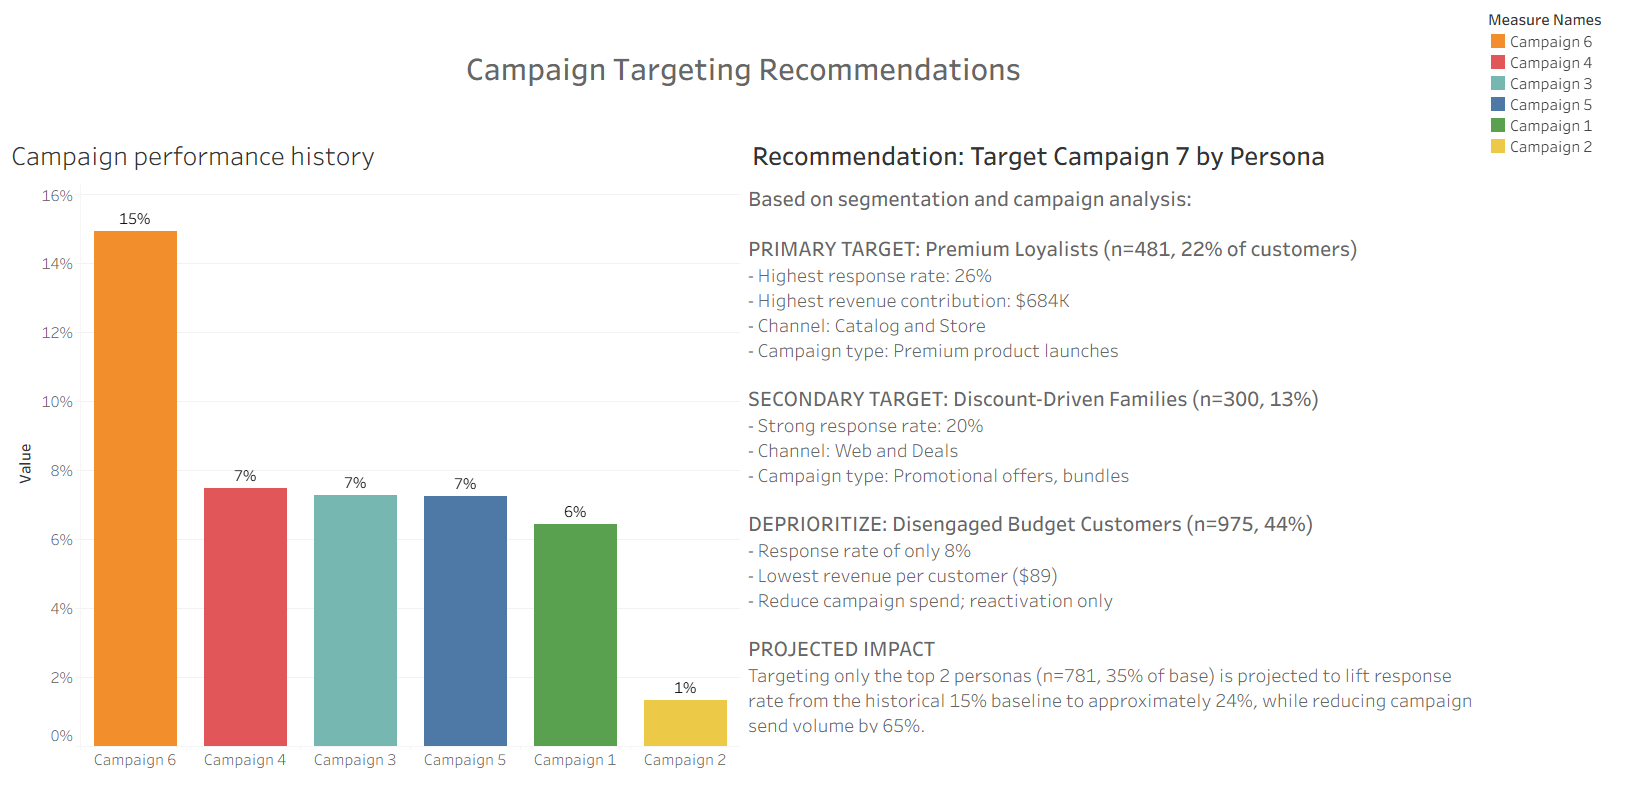

What the dashboard file says about the page in this screenshot:
{"tool":"tableau","page":{"name":"Targeting Recommendations","canvas":[1000,1000],"units":"permille","ordinal":1},"visuals":[{"type":"text","box":[4.8,10,893.8,156.1]},{"type":"legend","title":"Campaign performance history","param":"[federated.11dvzud0xif69k18sd4ox1xdd5fn].[:Measure Names]","box":[898.6,10,96.6,194.8]},{"type":"worksheet","title":"Campaign performance history","mark":"Automatic","box":[4.8,166,446.9,824]},{"type":"worksheet","title":"Recommendations","mark":"Automatic","box":[451.7,166,446.9,824]}]}

Visuals, with their boxes on the dashboard's canvas, which has no fixed pixel size, in thousandths of its width and height (x1, y1, x2, y2). These are canvas units, not pixel positions in the 1652x795 screenshot, which may show the page scaled, cropped or inside an application window:
text: locate(5, 10, 899, 166)
"Campaign performance history" legend: locate(899, 10, 995, 205)
"Campaign performance history" worksheet: locate(5, 166, 452, 990)
"Recommendations" worksheet: locate(452, 166, 899, 990)
